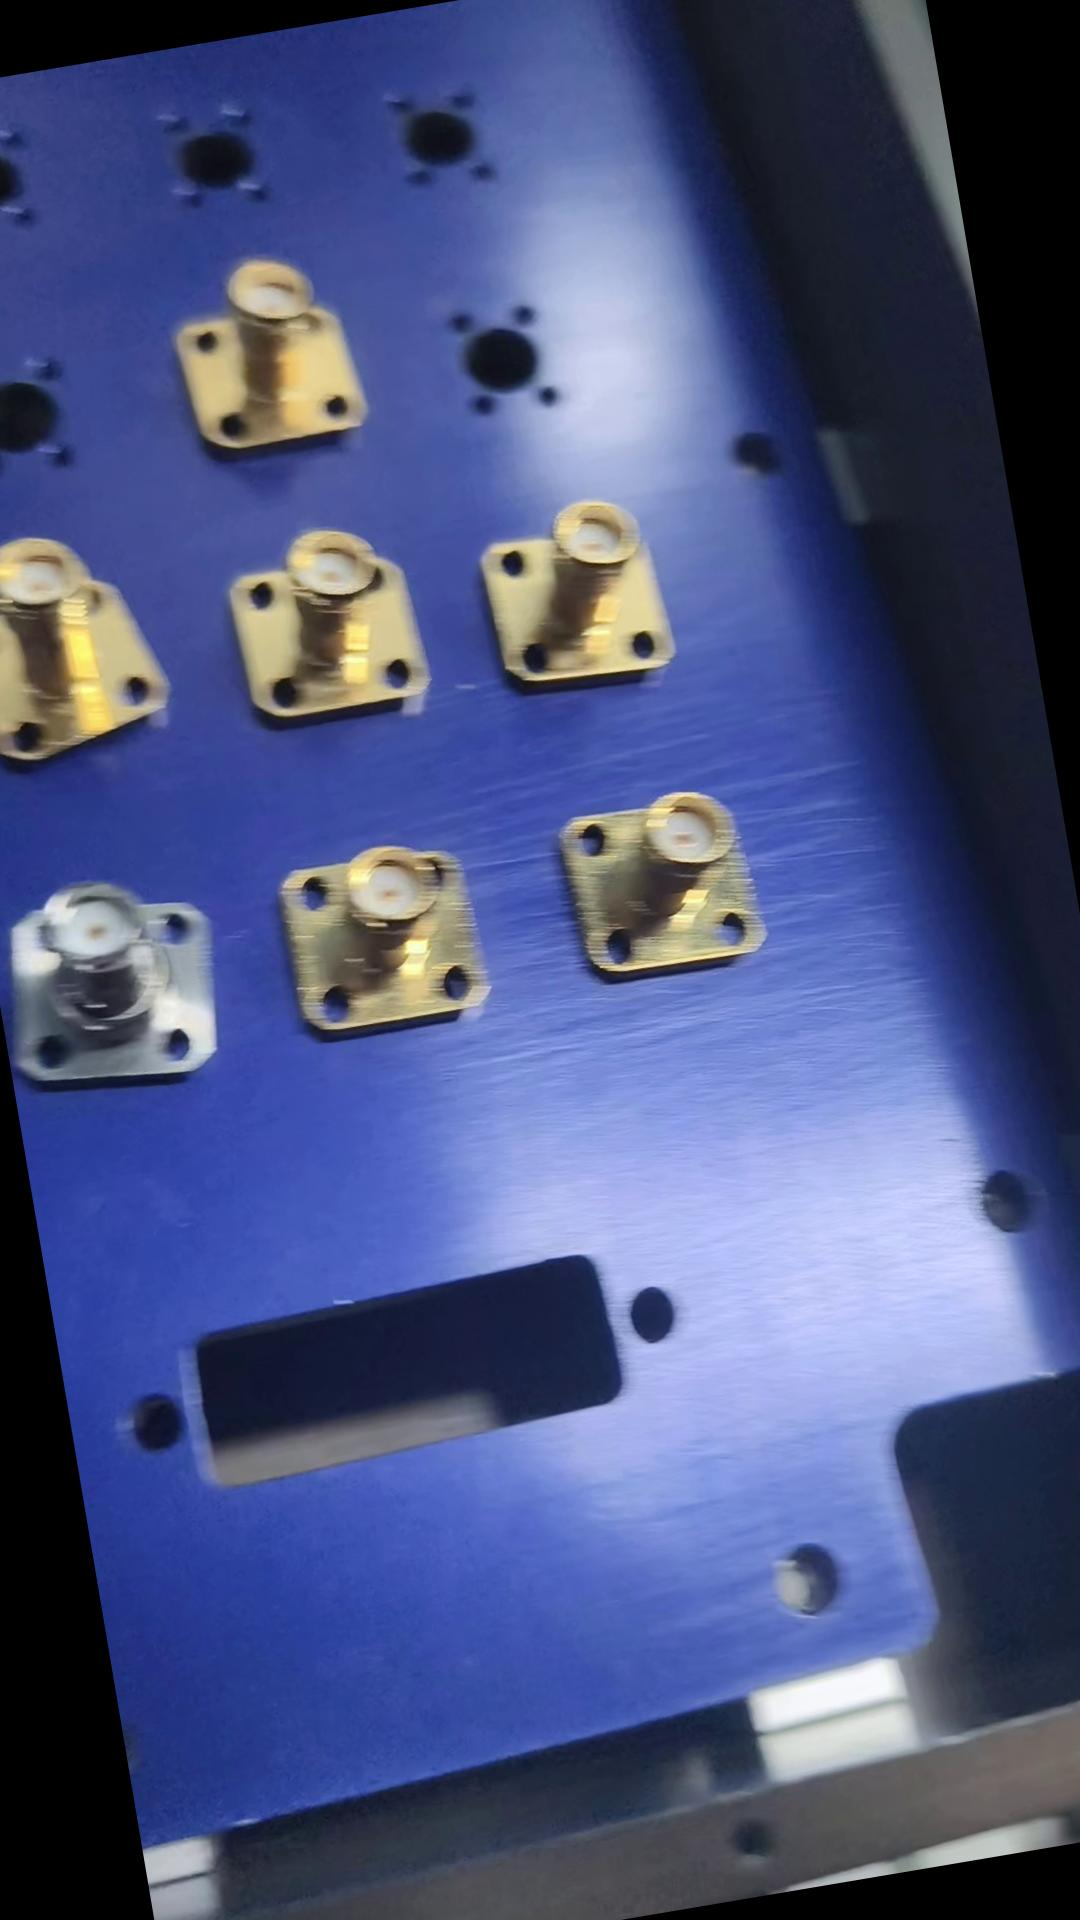SMA: (262, 829, 498, 1052), (214, 509, 439, 737), (146, 244, 367, 469), (549, 781, 774, 996), (468, 487, 688, 699)
